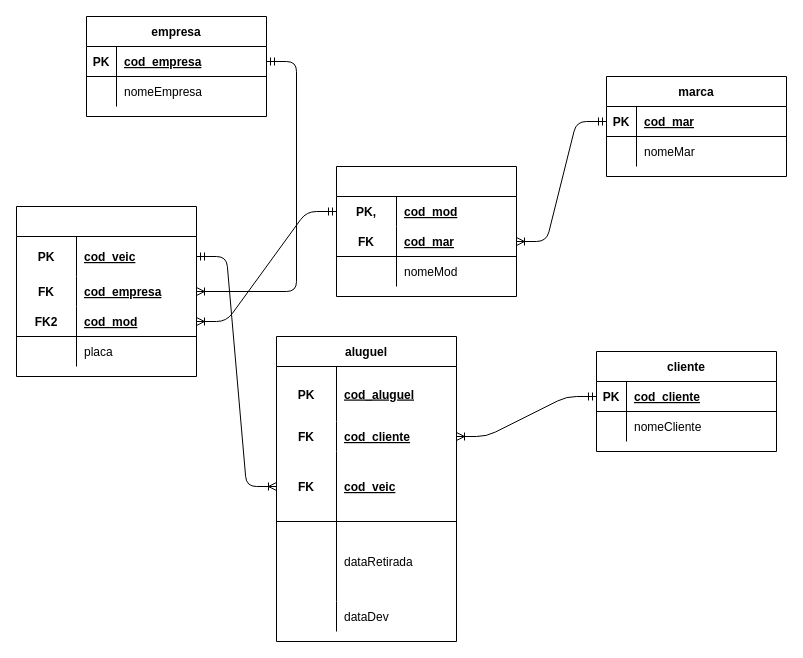
This 803x658 diagram has some shape labels left out. The shapes that lost their labels are listed below. From the top down, each one's box as (x1, y1, x2, y2) in pixels, then its label:
(336, 166, 516, 296): modelo
(16, 206, 196, 376): veiculo
